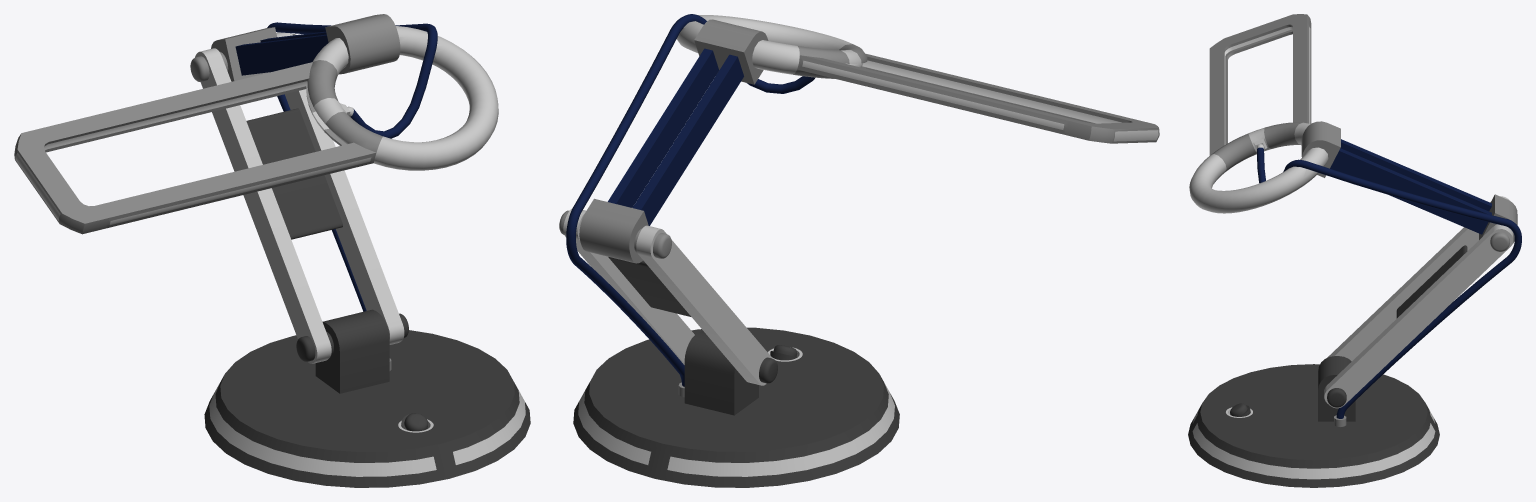
File: ErinDeskLight1.fbx
3 views of the same model, side by side, from view 1: azimuth 30°, elevation 25°; view 2: azimuth 150°, elevation 25°; view 3: azimuth 270°, elevation 25° (orthographic). The views are drawn at different scales.
Visible parts, largest first — view 1: Lamp; view 2: Lamp; view 3: Lamp.
Part boxes in pixels (x1,y1,x2,y2): Lamp: (14,14,530,487); Lamp: (559,14,1159,487); Lamp: (1188,14,1521,487).
Size of the model in its own units: 225 by 167 by 166.
